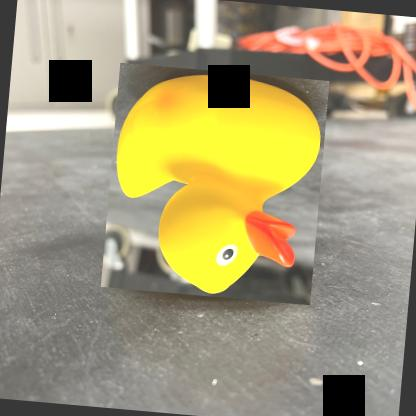duck: (101, 62, 330, 306)
